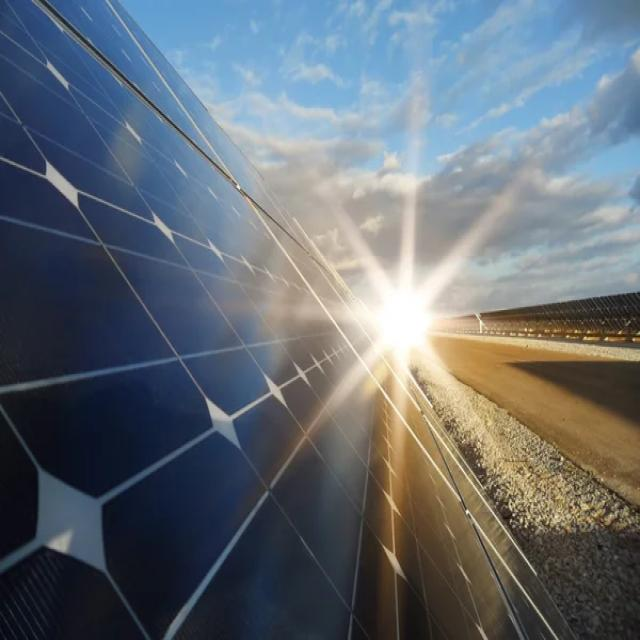clean-solar-panel: (0, 1, 574, 640)
